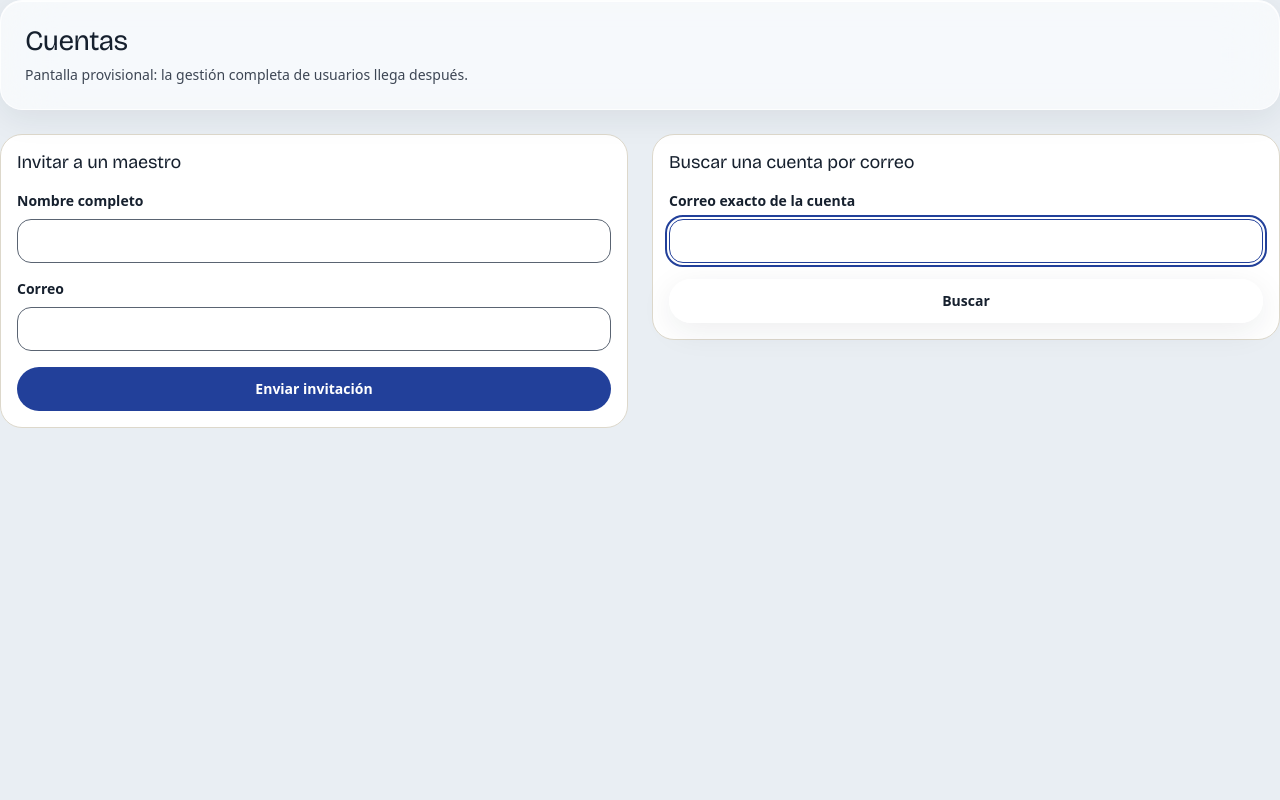
Test: ataque (DESIGN-01a r1): F-2 y F-3 tras un clic en una zona no enfocable › clic fuera y a escribir en 'Correo correcto' de la misma ficha: un 500 no le lleva el foco a 'Cancelar'
Type "carla@ejemplo.mx" into the field labelled "Correo exacto de la cuenta". click: (966, 241)
box: [669,219,1263,263]
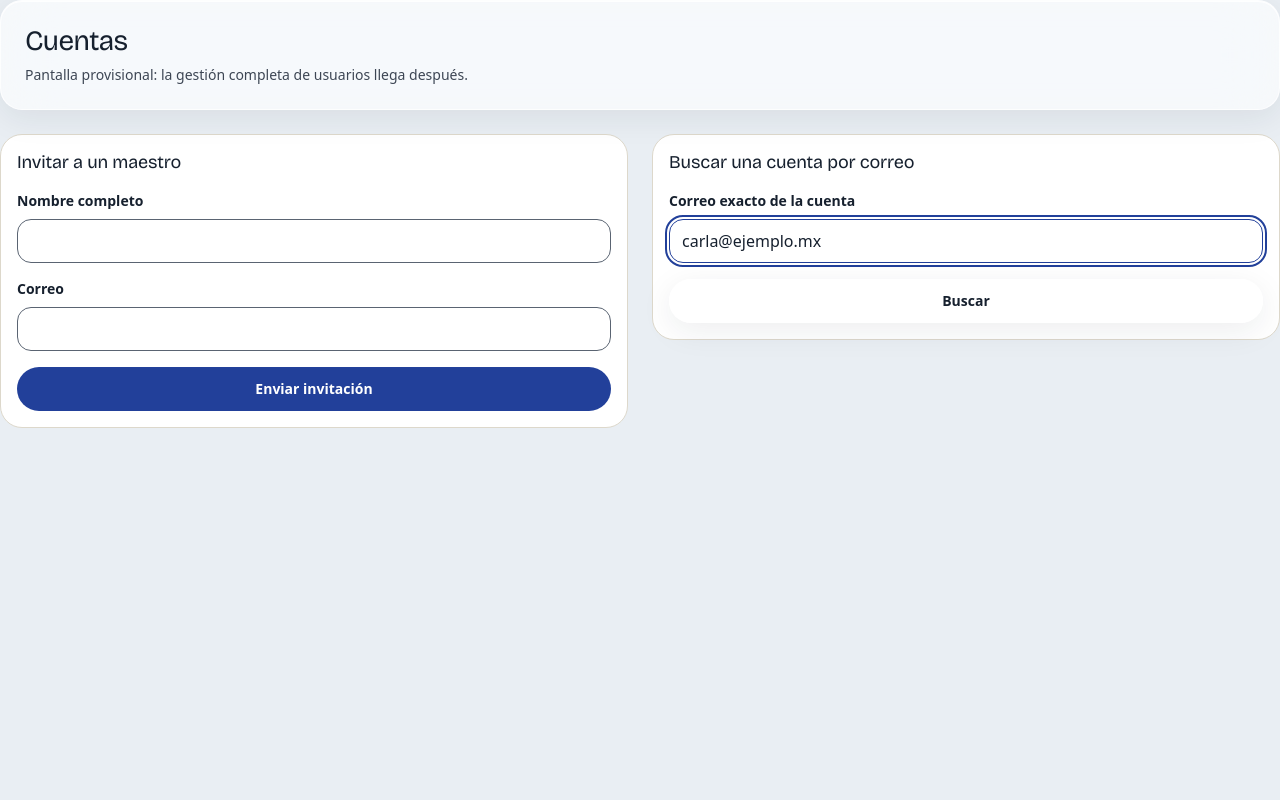
Submit the form "Buscar", box [652,134,1279,340]
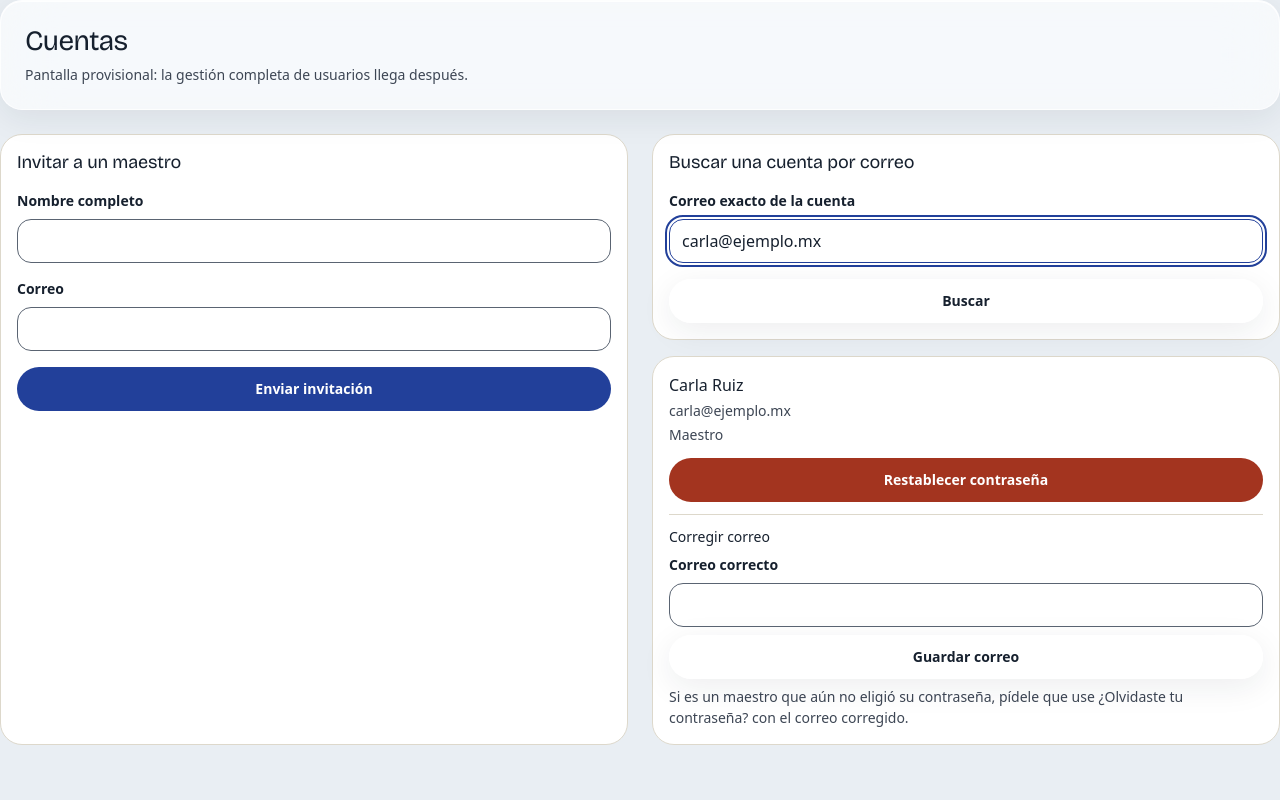
Check: the text "Carla Ruiz" is shown, box [669,374,744,396]
Click the button "Restablecer contraseña". click: (966, 480)
box: [669,458,1263,502]
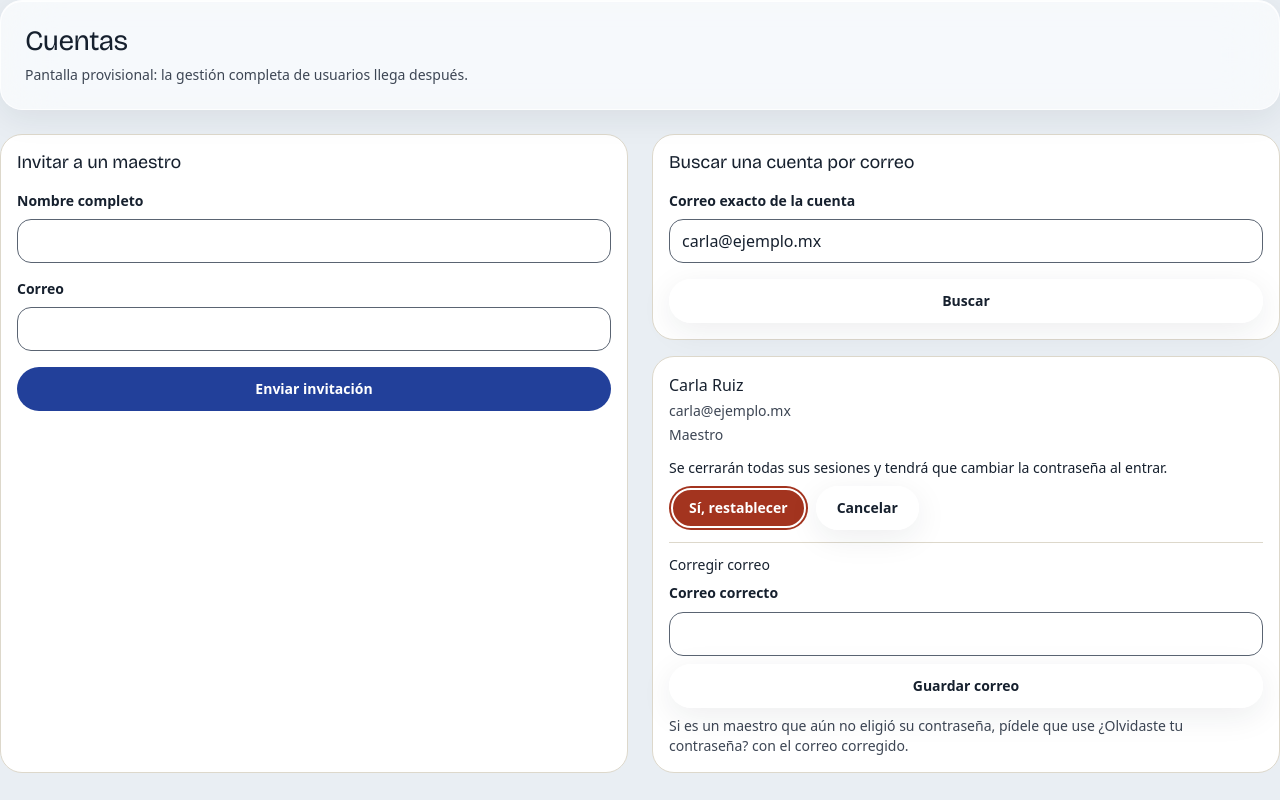
Click the button "Sí, restablecer". click: (738, 508)
box: [669,486,808,530]
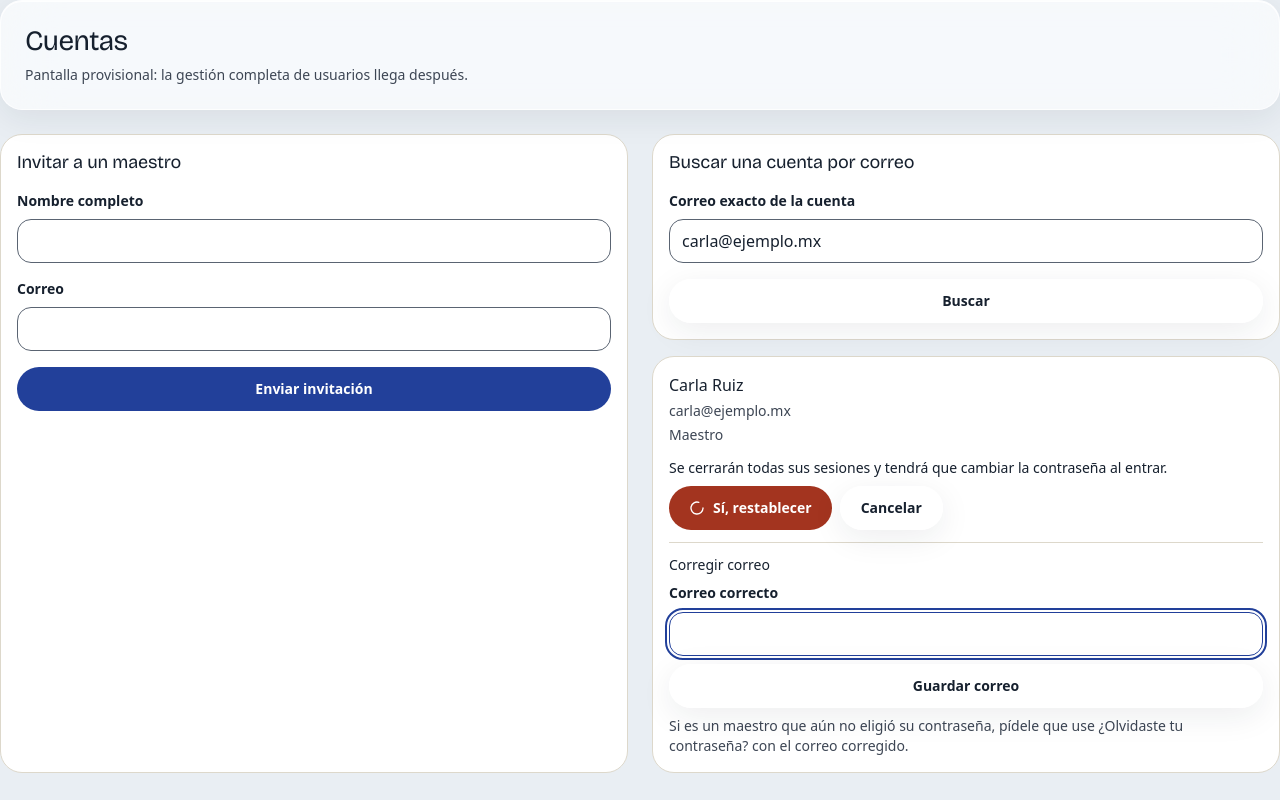
Check: the button "Sí, restablecer" is disabled, box [669,486,832,530]
Check: the button "Sí, restablecer" has attribute aria-busy="true", box [669,486,832,530]
Type "carla.r" into the field labelled "Correo correcto". click: (966, 634)
box: [669,612,1263,656]
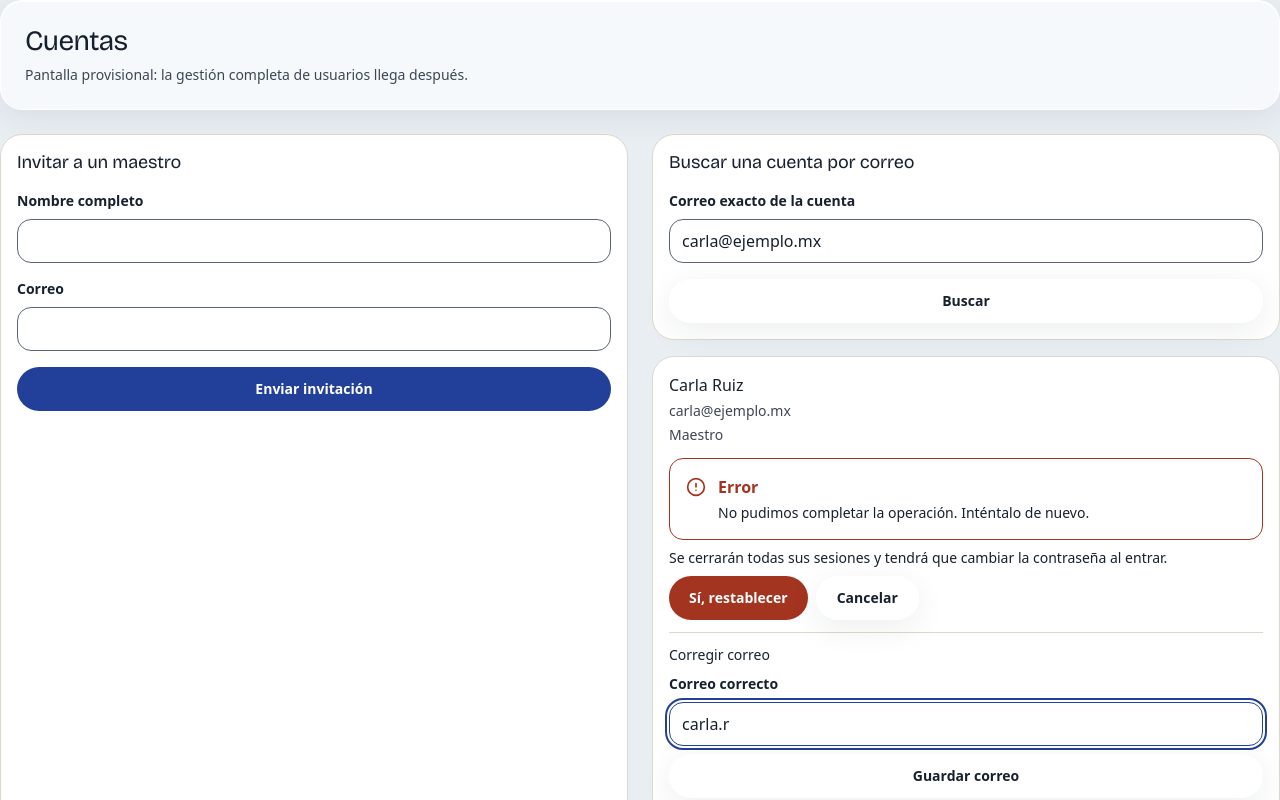
Check: the message "Error No pudimos completar la operación. Inténtalo de nuevo." is shown, box [669,458,1263,540]
